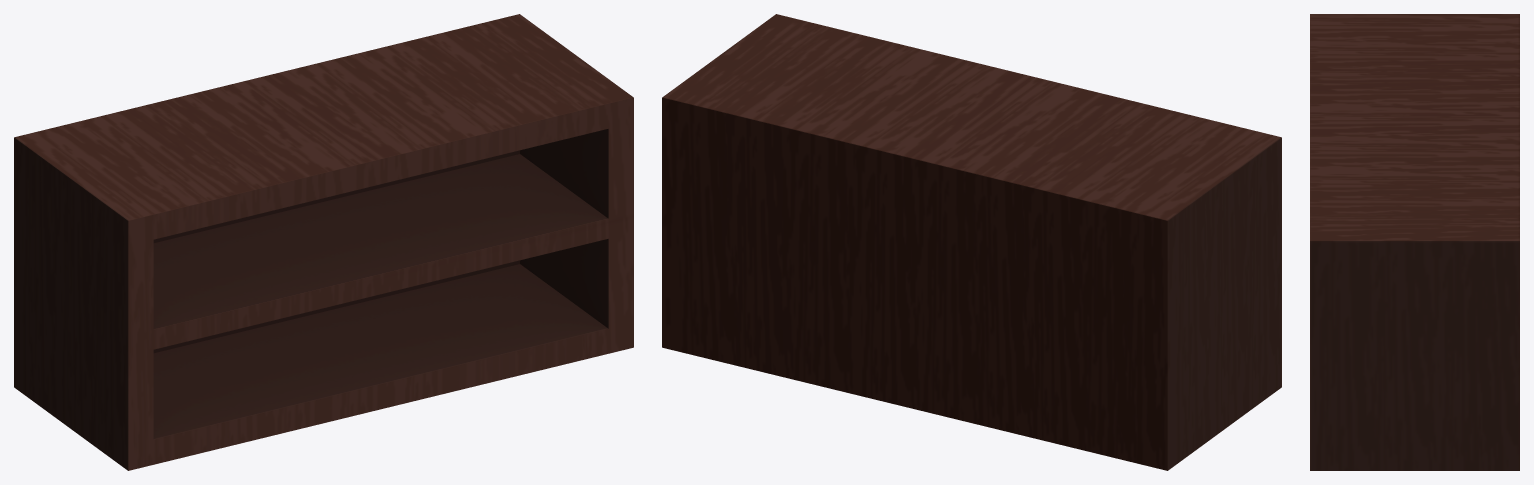
Rendered from Tv_stand_textures.fbx.
3 views of the same model, side by side, from view 1: azimuth 30°, elevation 25°; view 2: azimuth 150°, elevation 25°; view 3: azimuth 270°, elevation 25° (orthographic). The views are drawn at different scales.
Parts seen in each view (by area): view 1: TV_Stand; view 2: TV_Stand; view 3: TV_Stand.
Part boxes in pixels (bbox=[...]): TV_Stand: bbox=[14, 14, 633, 470]; TV_Stand: bbox=[662, 14, 1281, 470]; TV_Stand: bbox=[1310, 14, 1519, 470].
Bounding box in the file's own units: 371 × 175 × 145.
Materials: 1 (1 with a texture image).
